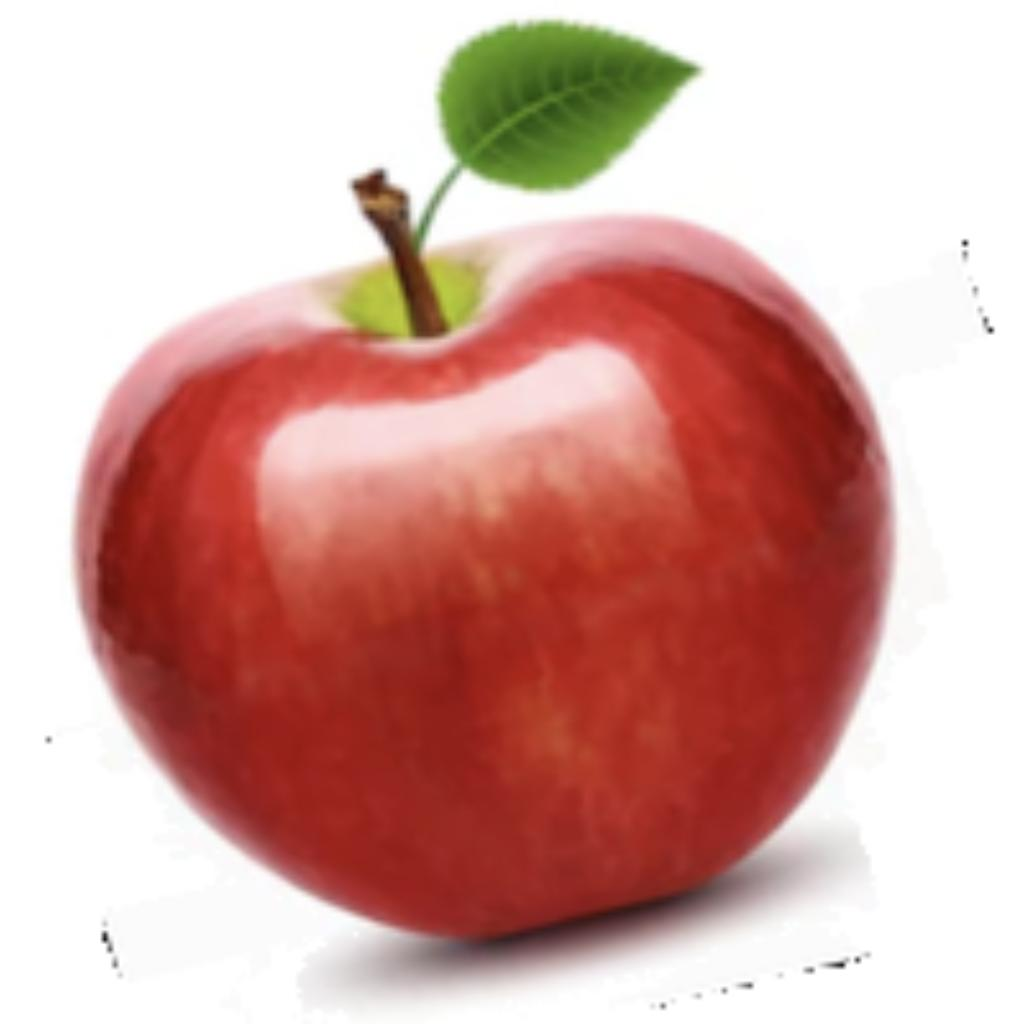apple: (61, 10, 957, 1019)
